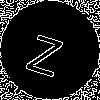Z: (25, 25, 67, 77)
